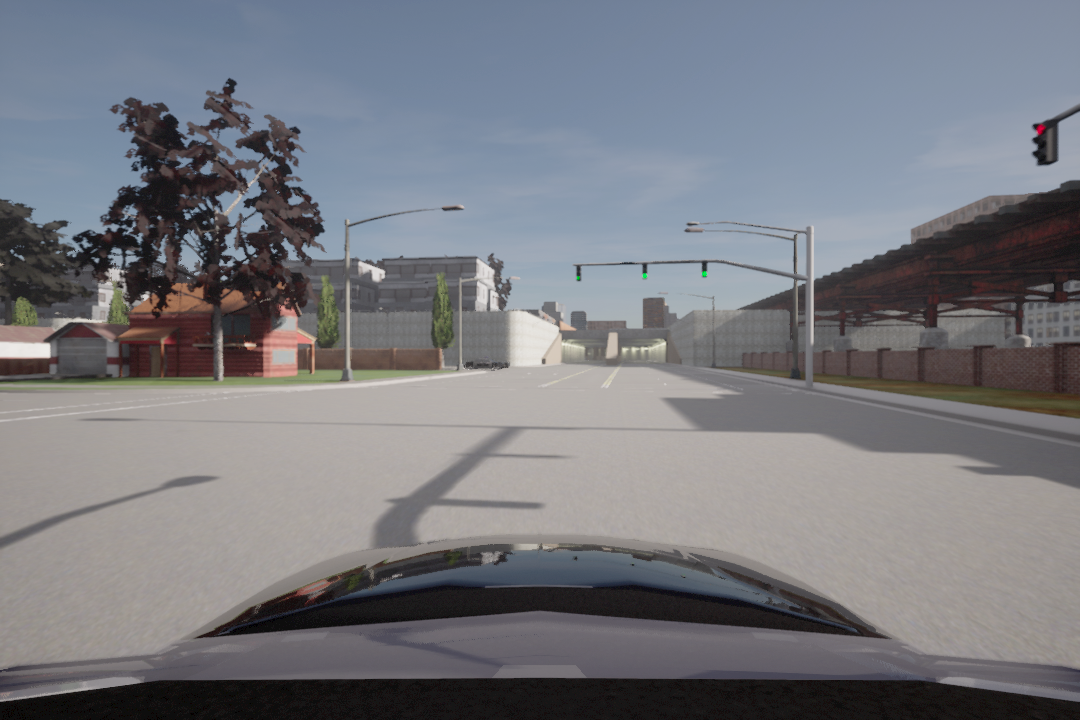TrafficLight: (1028, 111, 1064, 171), (571, 263, 583, 282), (698, 261, 710, 278), (641, 261, 649, 279)
